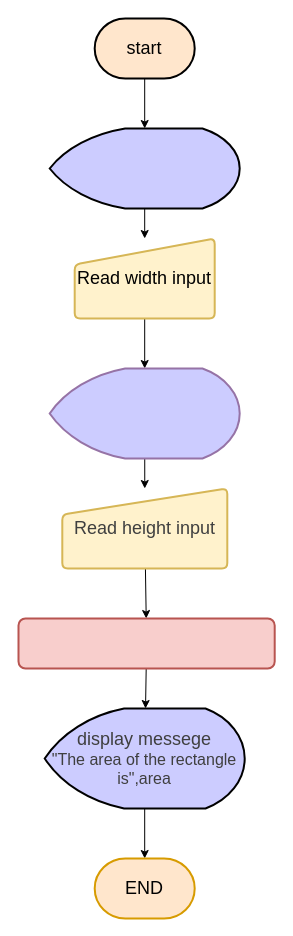
Image size: 293x936. Some labels were removed from this diagram. Here are the shapes that lost their labels. From the top down, the centre of each, then its label:
point 144,168: display messege "Emter the width of Rectangie"
point 144,413: display messege "Emter the height of Rectangie"
point 146,643: calculate area: area = width * height
